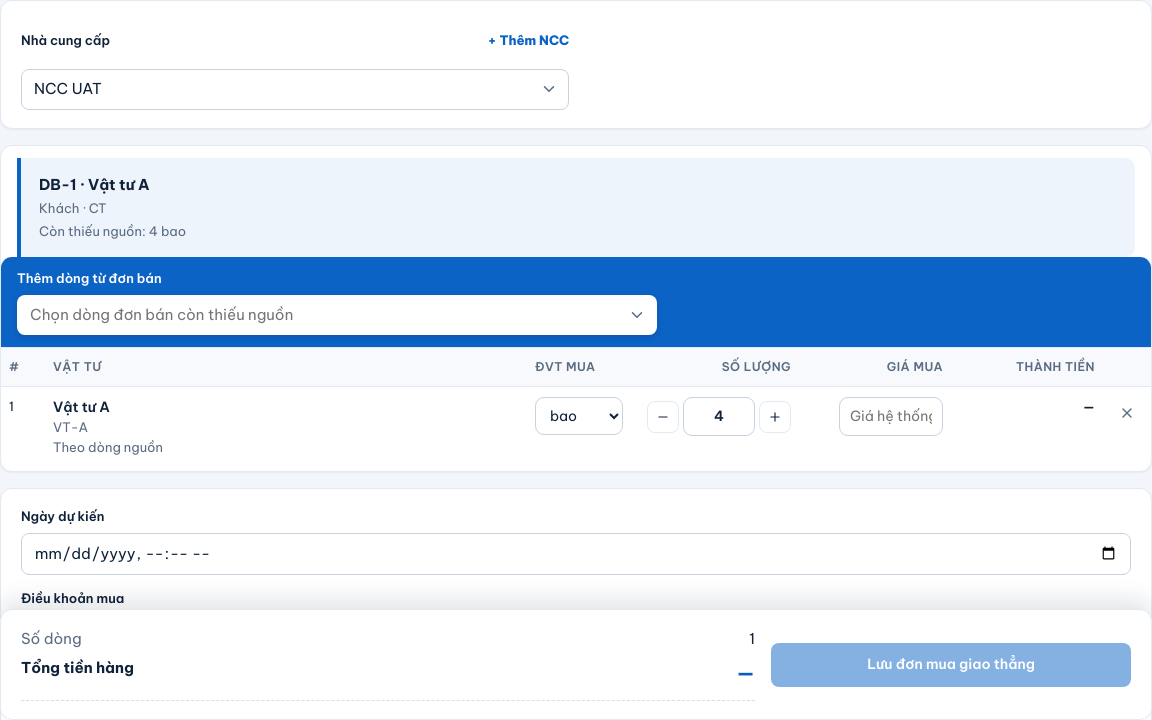
Test: adds direct-delivery lines only from the sales order's remaining lines
Expected: the field named "Số lượng dòng 1" holds "4", left=683, top=397, right=755, bottom=436
Focus the dropdown labelled "Thêm dòng từ đơn bán": point(337, 315) left=17, top=294, right=657, bottom=335
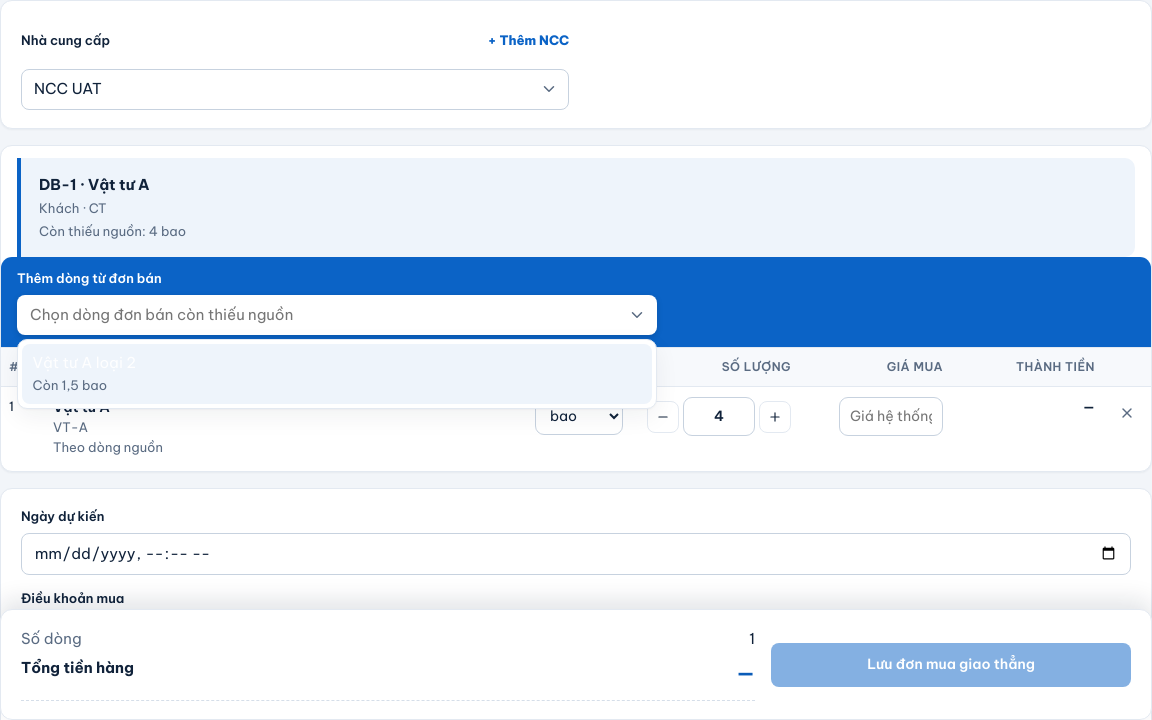
Press the mouse on the option "Vật tư A loại 2 Còn 1,5 bao": point(84, 362) left=22, top=344, right=652, bottom=404
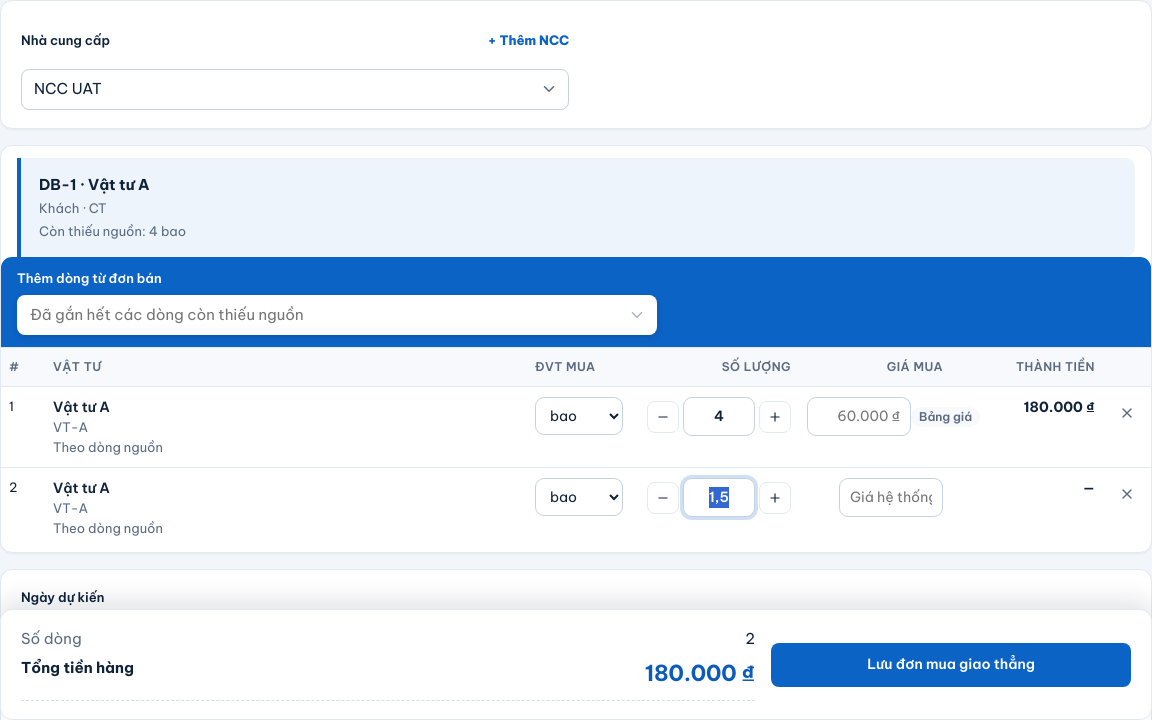
Now the dropdown labelled "Thêm dòng từ đơn bán" is disabled, box left=17, top=294, right=657, bottom=335
